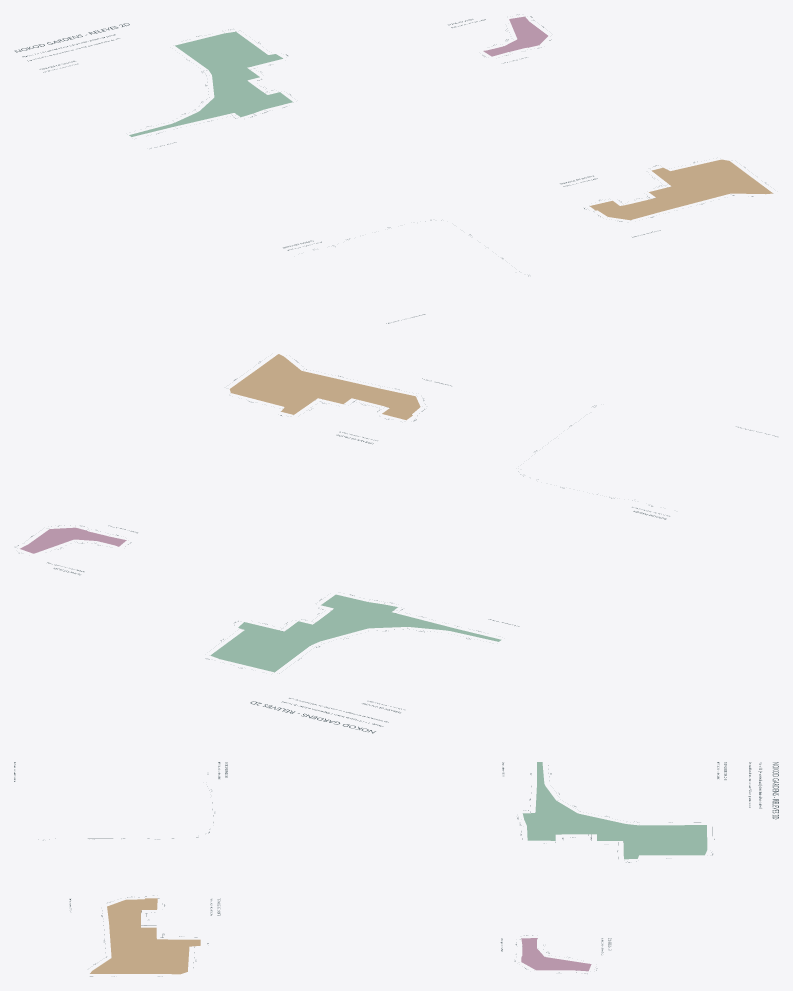
File: NOKOD_Projet_2_Plan_2D.dae
3 views of the same model, one above another, from view 1: azimuth 30°, elevation 25°; view 2: azimuth 150°, elevation 25°; view 3: azimuth 270°, elevation 25° (orthographic). The views are drawn at different scales.
Visible parts, largest first — view 1: SURFACE_PROJETEE_Terrasse de gauche, SURFACE_PROJETEE_Terrasse de droite, SURFACE_PROJETEE_Zone escalier; view 2: SURFACE_PROJETEE_Terrasse de gauche, SURFACE_PROJETEE_Terrasse de droite, SURFACE_PROJETEE_Zone escalier; view 3: SURFACE_PROJETEE_Terrasse de gauche, SURFACE_PROJETEE_Terrasse de droite, SURFACE_PROJETEE_Zone escalier.
Part boxes in pixels (box(x1,y1,x2,y2)): SURFACE_PROJETEE_Terrasse de gauche: box(129, 31, 292, 136); SURFACE_PROJETEE_Terrasse de droite: box(590, 159, 772, 220); SURFACE_PROJETEE_Zone escalier: box(483, 16, 547, 56); SURFACE_PROJETEE_Terrasse de gauche: box(210, 594, 501, 672); SURFACE_PROJETEE_Terrasse de droite: box(229, 354, 420, 420); SURFACE_PROJETEE_Zone escalier: box(20, 527, 126, 553); SURFACE_PROJETEE_Terrasse de gauche: box(522, 762, 707, 859); SURFACE_PROJETEE_Terrasse de droite: box(90, 898, 200, 974); SURFACE_PROJETEE_Zone escalier: box(521, 938, 591, 971).
Bounding box in the file's own units: 30.23 × 45.46 × 0.
